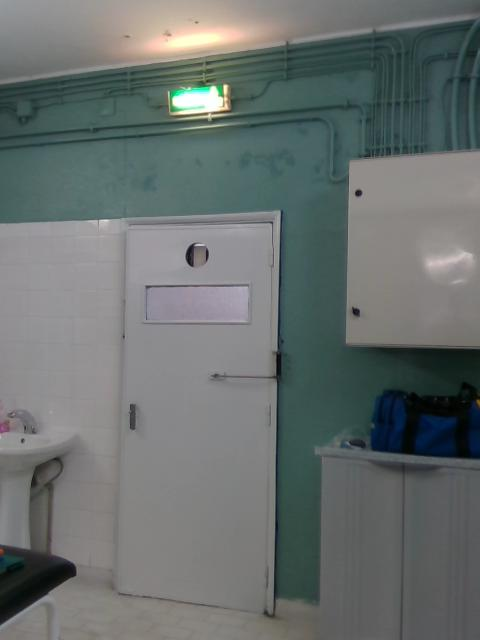door: (123, 220, 272, 611)
